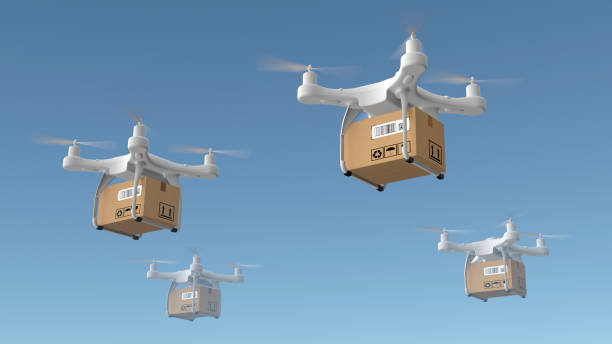Drone: (248, 12, 520, 125), (30, 107, 249, 189), (414, 208, 574, 266), (139, 243, 266, 287)
